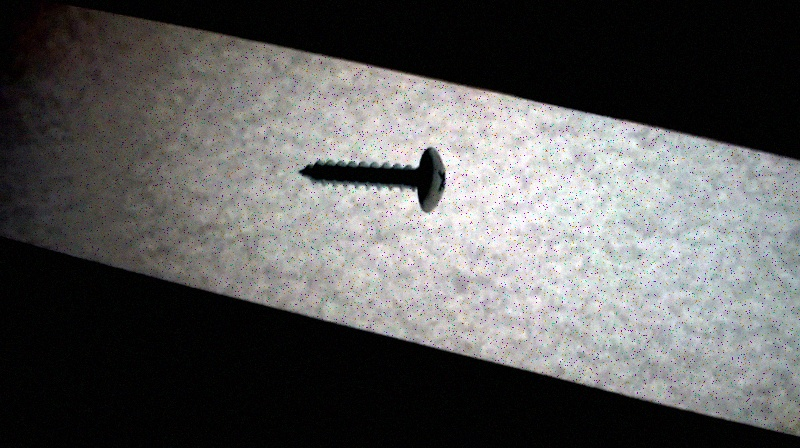S003: (293, 143, 450, 214)
